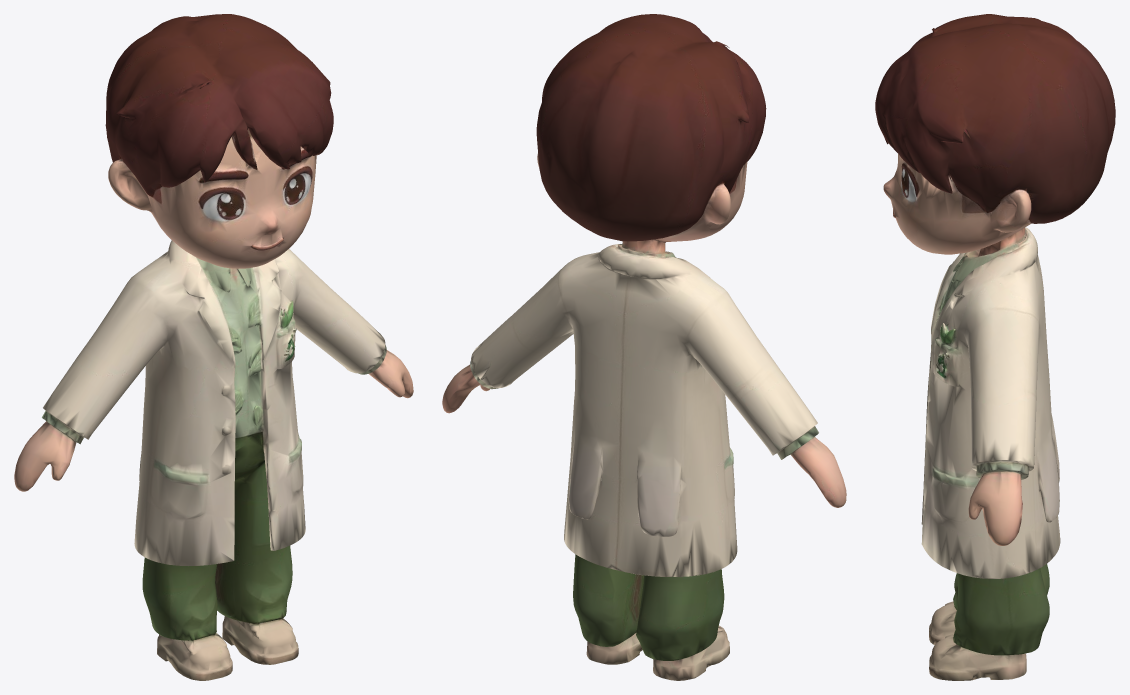
Rendered from char_namja_researcher_base.glb.
3 views of the same model, side by side, from view 1: azimuth 30°, elevation 25°; view 2: azimuth 150°, elevation 25°; view 3: azimuth 270°, elevation 25° (orthographic).
Size of the model in its own units: 1.14 by 1.7 by 0.5918.
1 material, 1 textured.
